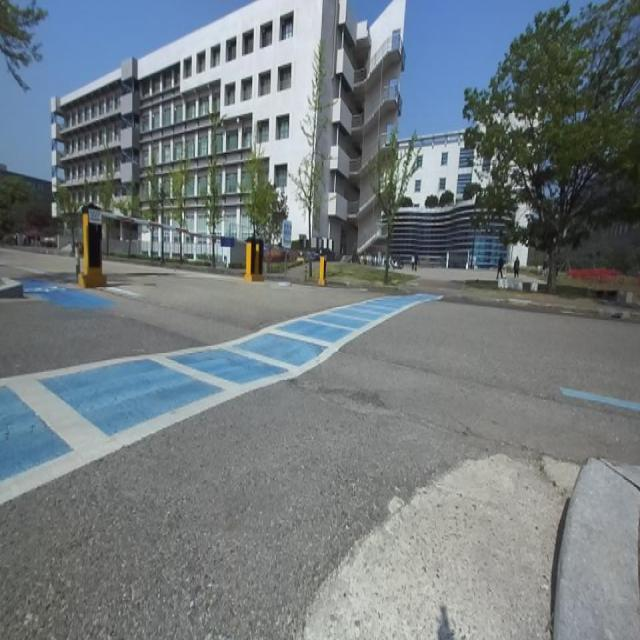sidewalk: (554, 459, 640, 640)
